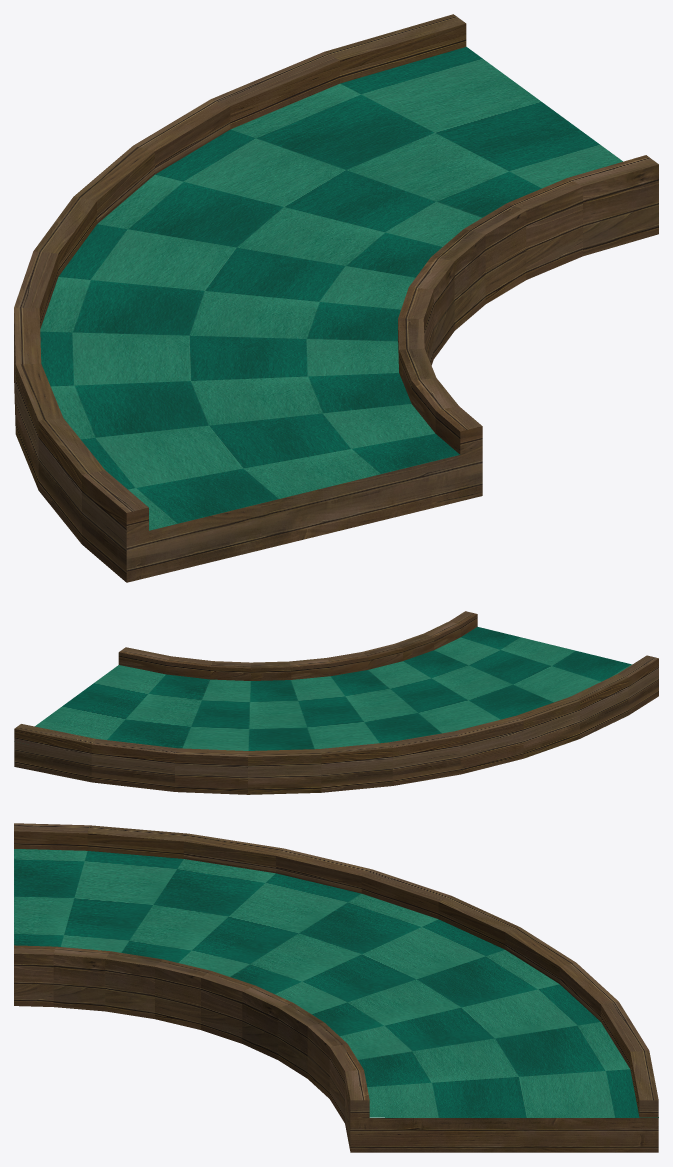
The model's file is PartBigHalfCurveFlatLowPoly.gltf.
3 views of the same model, one above another, from view 1: azimuth 30°, elevation 25°; view 2: azimuth 150°, elevation 25°; view 3: azimuth 270°, elevation 25° (orthographic). The views are drawn at different scales.
Parts seen in each view (by area): view 1: PartBigHalfCurveLowPoly_grass_glb, PartBigHalfCurveLowPoly_wood_glb; view 2: PartBigHalfCurveLowPoly_grass_glb, PartBigHalfCurveLowPoly_wood_glb; view 3: PartBigHalfCurveLowPoly_grass_glb, PartBigHalfCurveLowPoly_wood_glb.
Part boxes in pixels (<box>): PartBigHalfCurveLowPoly_grass_glb: <box>40,47,622,530</box>; PartBigHalfCurveLowPoly_wood_glb: <box>14,14,658,582</box>; PartBigHalfCurveLowPoly_grass_glb: <box>35,626,631,750</box>; PartBigHalfCurveLowPoly_wood_glb: <box>14,611,658,794</box>; PartBigHalfCurveLowPoly_grass_glb: <box>14,849,658,1117</box>; PartBigHalfCurveLowPoly_wood_glb: <box>14,823,658,1152</box>.
Size of what is drawn, in the model's own units: 8.5 by 0.75 by 8.36.
Materials: 2 (2 with a texture image).
